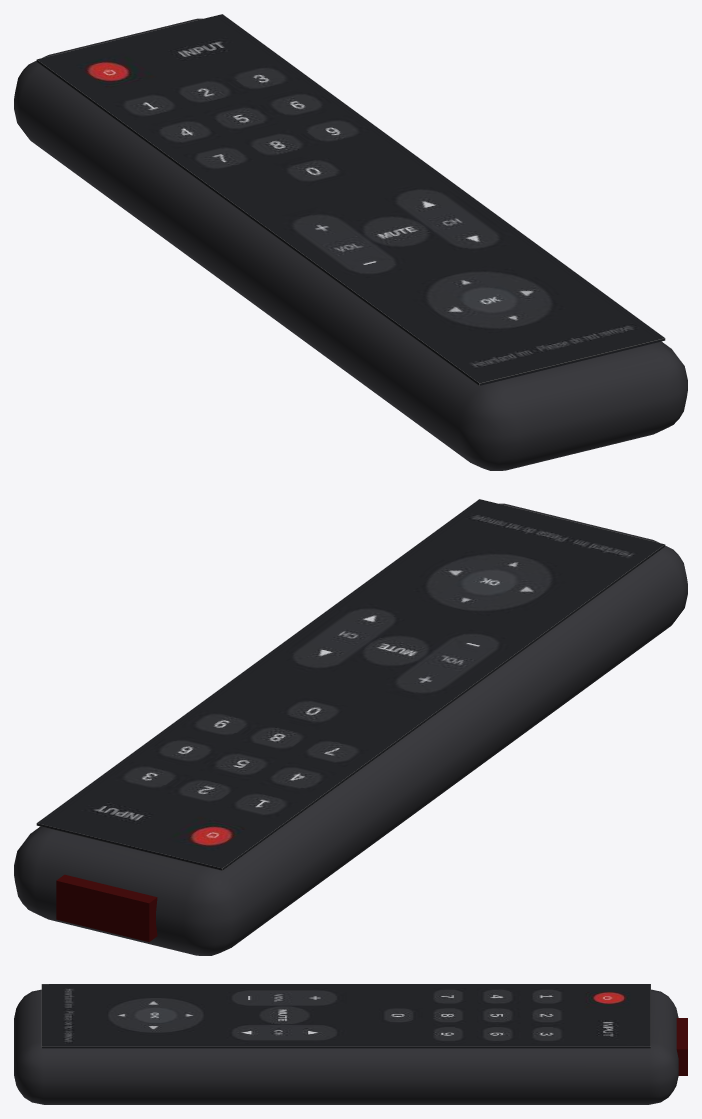
Rendered from hotel-tv-remote.glb.
The picture shows the model from 3 angles, top to bottom: view 1: azimuth 30°, elevation 25°; view 2: azimuth 150°, elevation 25°; view 3: azimuth 270°, elevation 25°; orthographic projection. The views are drawn at different scales.
Visible parts, largest first — view 1: lobby_0.0, black_plastic; view 2: lobby_0.0, black_plastic, ir_red; view 3: black_plastic, lobby_0.0, ir_red.
Boxes of the visible parts, <box> form: lobby_0.0: <box>36,14,665,385</box>; black_plastic: <box>14,18,687,470</box>; lobby_0.0: <box>36,499,665,870</box>; black_plastic: <box>14,503,687,955</box>; ir_red: <box>56,874,157,941</box>; black_plastic: <box>14,989,678,1104</box>; lobby_0.0: <box>41,984,650,1048</box>; ir_red: <box>676,1018,687,1075</box>.
Size of the model in its own units: 0.048 by 0.0185 by 0.1825.
3 materials, 1 textured.
